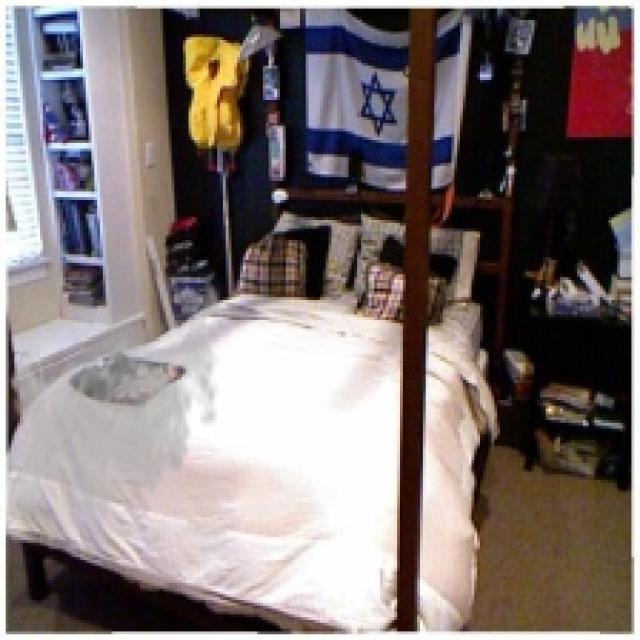smoke: (6, 248, 231, 528)
